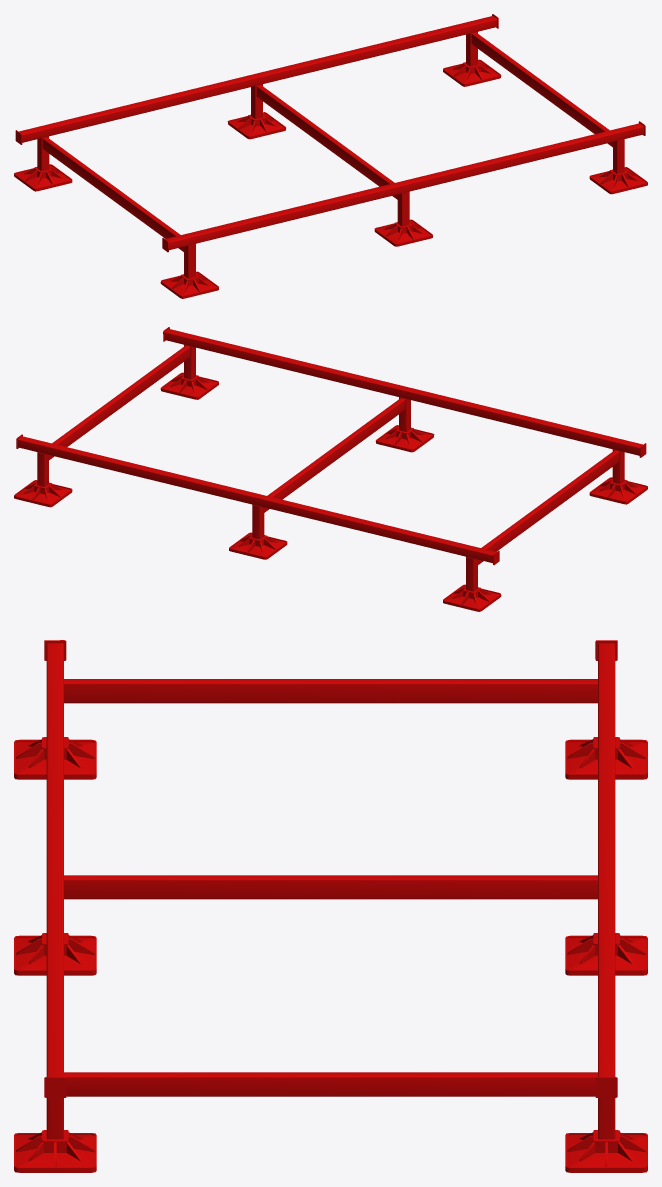
The picture shows the model from 3 angles, top to bottom: view 1: azimuth 30°, elevation 25°; view 2: azimuth 150°, elevation 25°; view 3: azimuth 270°, elevation 25°; orthographic projection. The views are drawn at different scales.
Parts seen in each view (by area): view 1: Mesh; view 2: Mesh; view 3: Mesh.
Boxes of the visible parts, left/top/right/bottom form: Mesh: left=14, top=14, right=647, bottom=298; Mesh: left=14, top=327, right=647, bottom=611; Mesh: left=14, top=640, right=647, bottom=1172.
Size of the model in its own units: 3.01 by 0.319 by 1.84.
